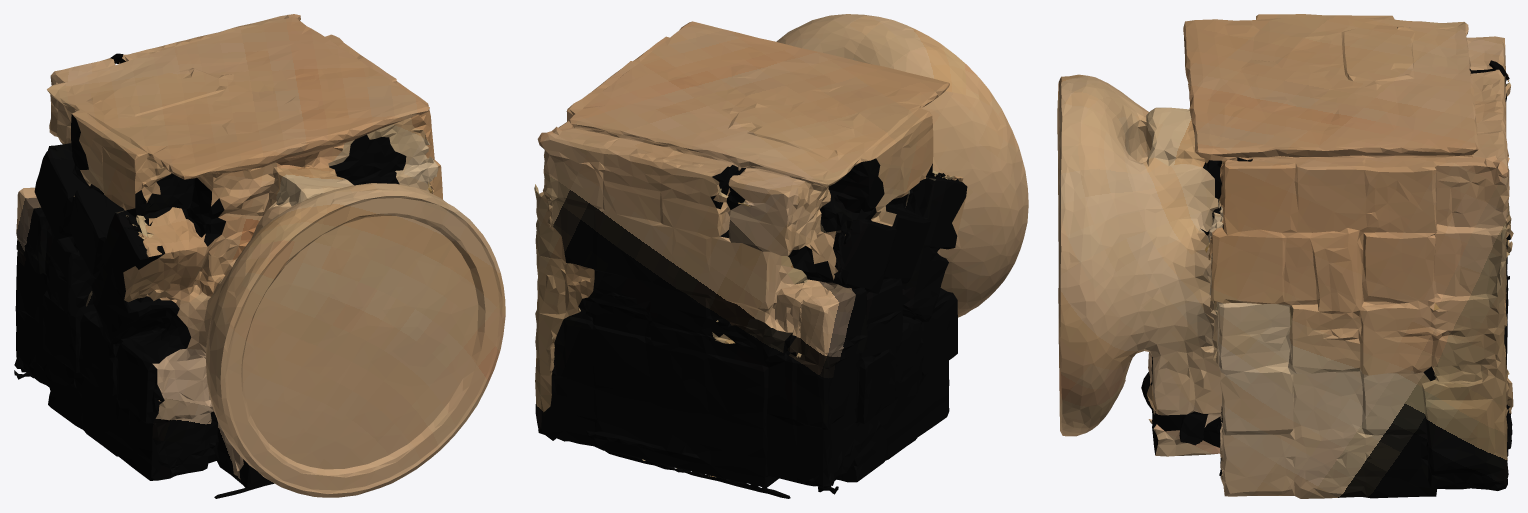
3 views of the same model, side by side, from view 1: azimuth 30°, elevation 25°; view 2: azimuth 150°, elevation 25°; view 3: azimuth 270°, elevation 25° (orthographic). The views are drawn at different scales.
Size of the model in its own units: 0.1421 by 0.1412 by 0.1654.
